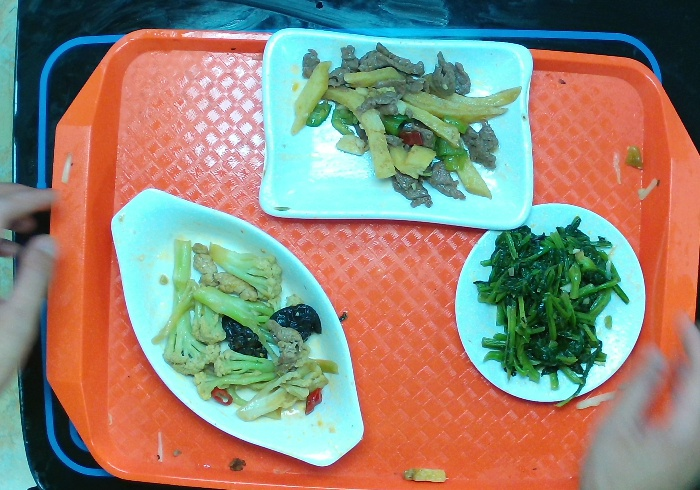RJxy-Si_Fang_Ao_Bian_Wan: (251, 20, 542, 237)
RJxy-Xiao_Yuan_Die: (440, 196, 662, 411)
RJxy-Yu_Pan: (106, 184, 367, 472)
